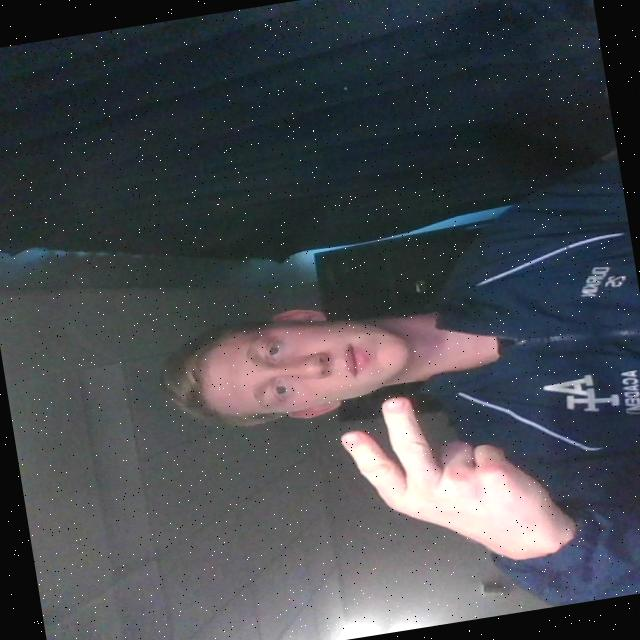scissors: (323, 364, 594, 592)
